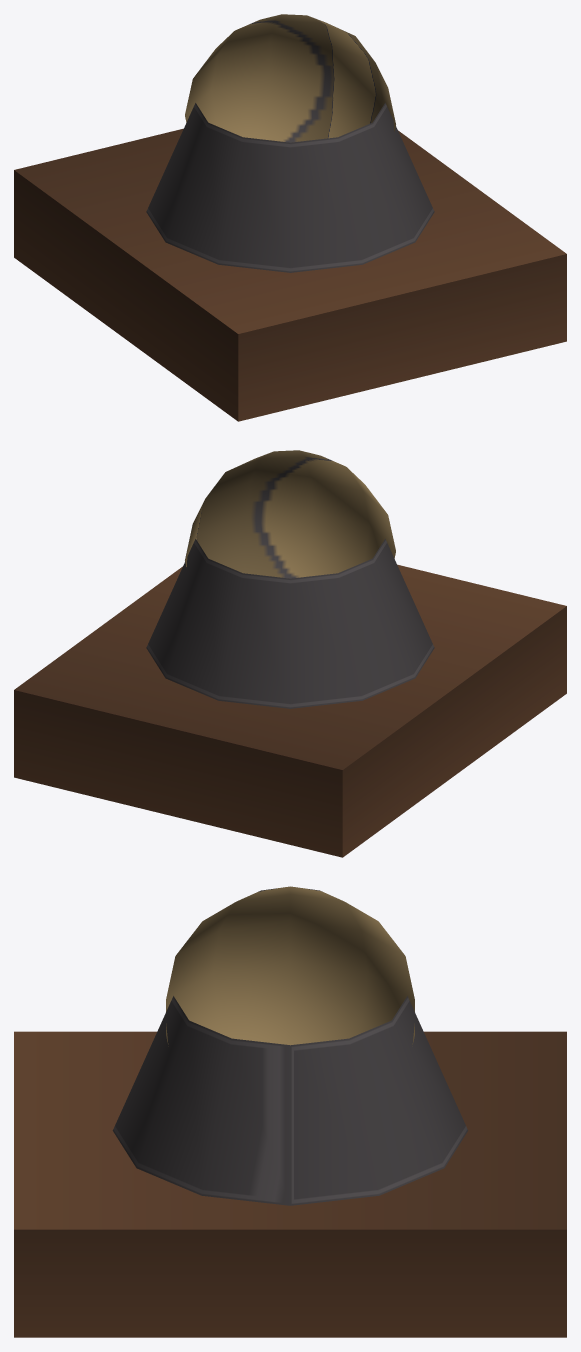
The model's file is siege_ballista.glb.
The picture shows the model from 3 angles, top to bottom: view 1: azimuth 30°, elevation 25°; view 2: azimuth 150°, elevation 25°; view 3: azimuth 270°, elevation 25°; orthographic projection. The views are drawn at different scales.
Parts seen in each view (by area): view 1: siege_ballista; view 2: siege_ballista; view 3: siege_ballista.
Boxes of the visible parts, bbox=[...] form: siege_ballista: bbox=[14, 14, 566, 421]; siege_ballista: bbox=[14, 450, 566, 857]; siege_ballista: bbox=[14, 886, 566, 1337].
Size of the model in its own units: 2.2 by 1.76 by 2.6.
1 material, 1 textured.
